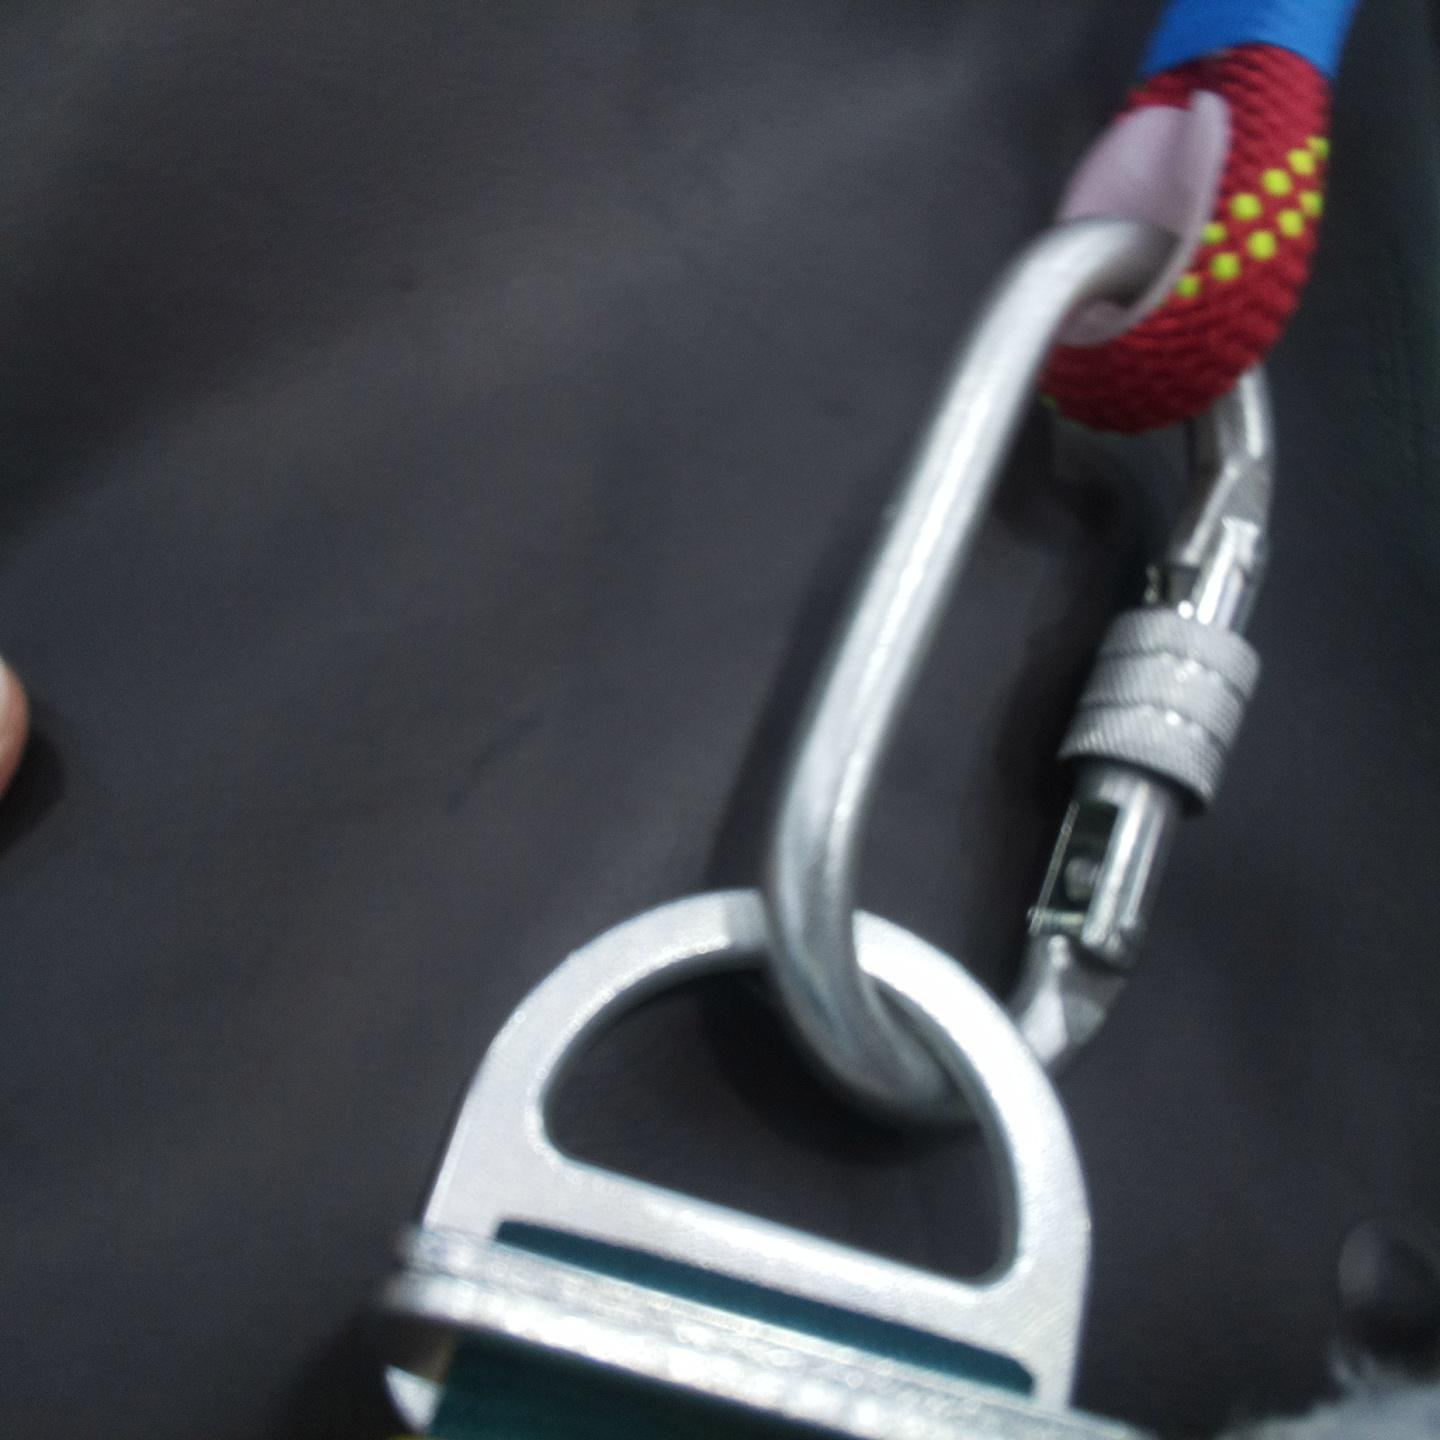SUCCESS: (375, 522, 1267, 1352)
